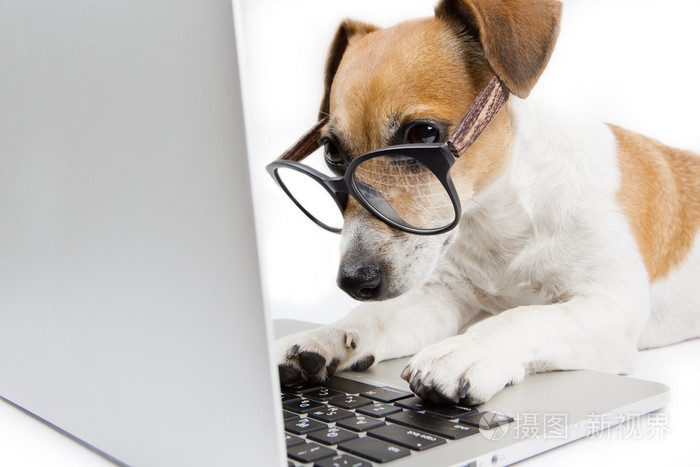dog: (271, 4, 700, 404)
